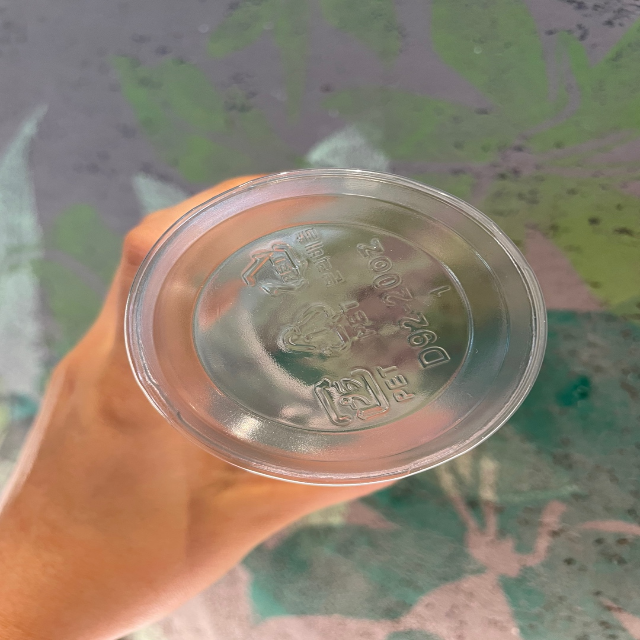pet: (236, 223, 348, 299), (274, 296, 380, 361), (314, 362, 414, 430)
